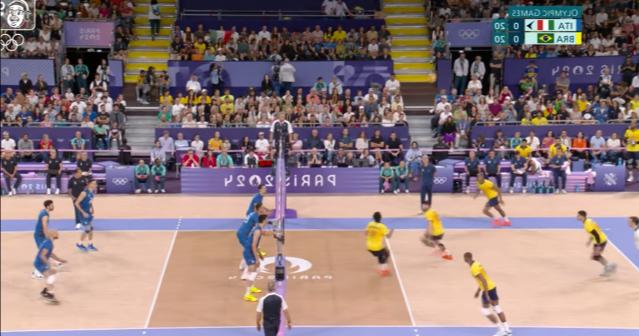Levantador: (364, 214, 389, 276)
Libero: (627, 216, 639, 272)
bola: (424, 71, 436, 83)
